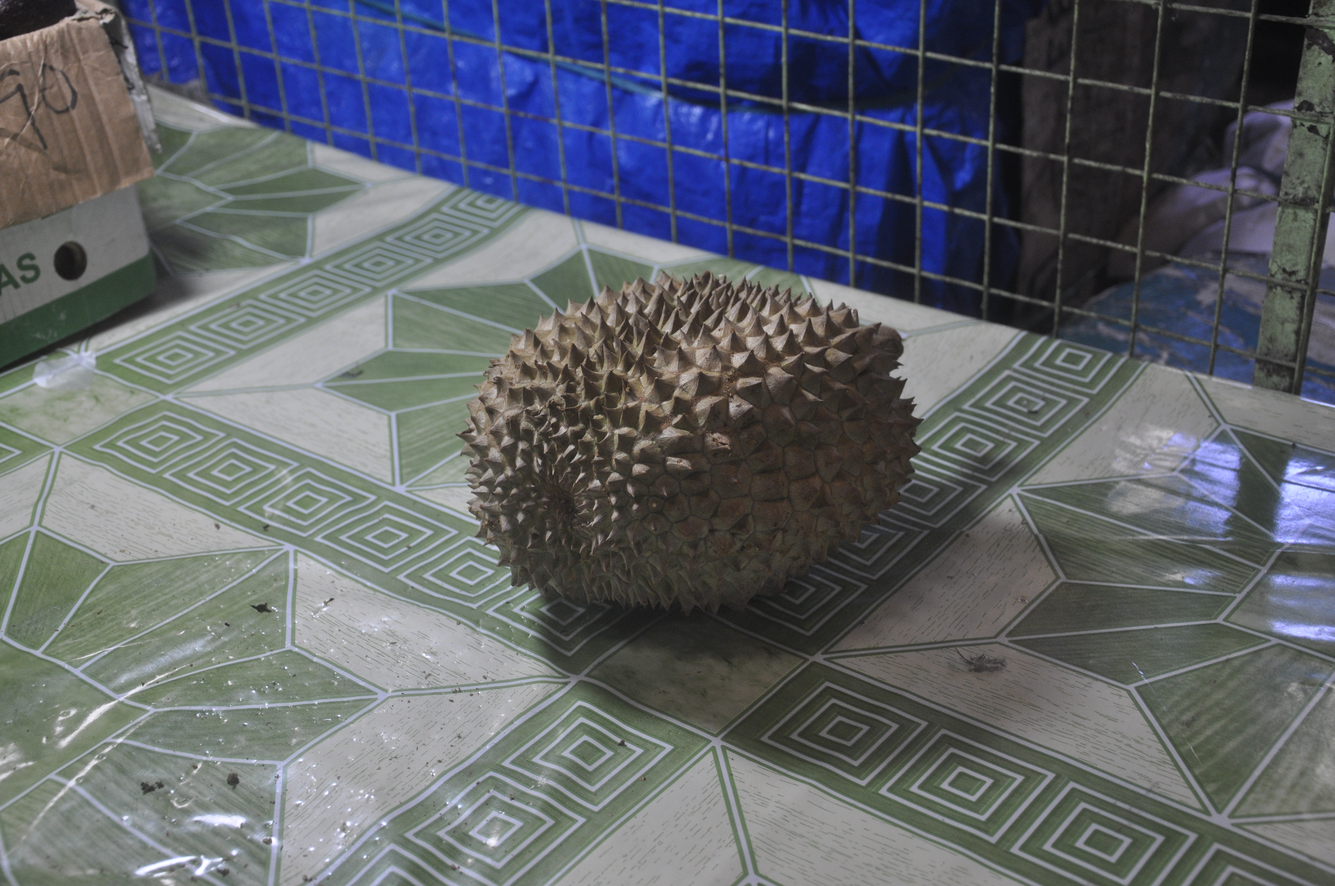mature: (458, 273, 919, 612)
